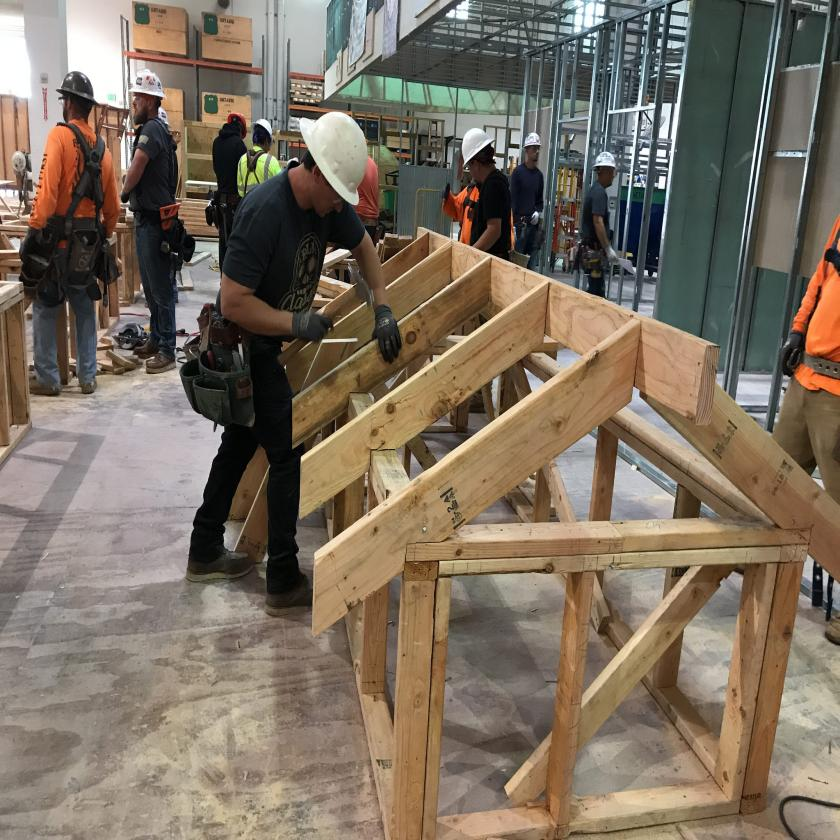Con_casco: (294, 93, 377, 239), (456, 123, 511, 200), (118, 62, 170, 128)
